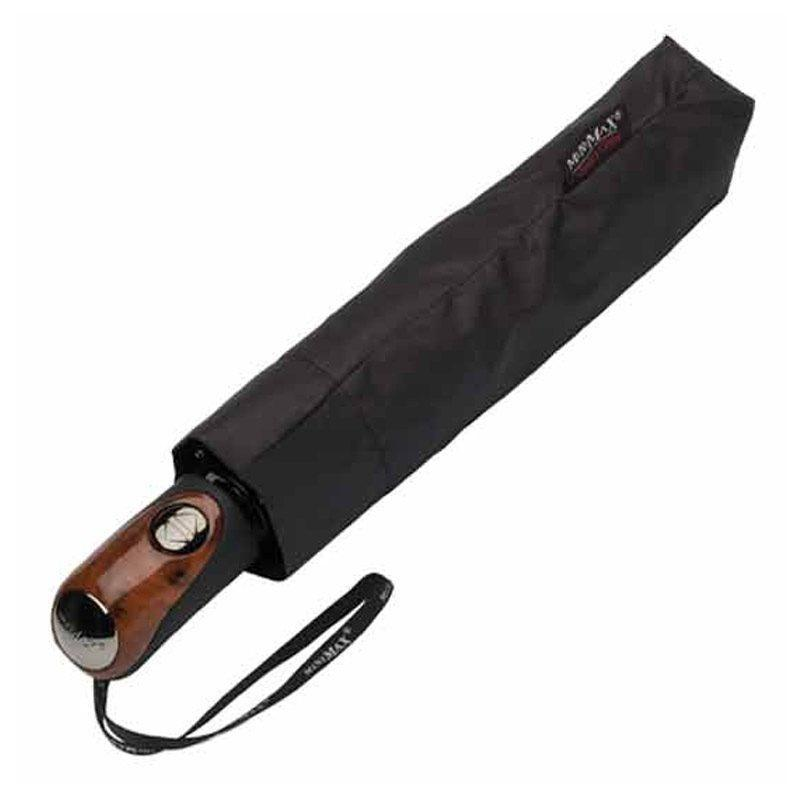Umbrella: (43, 22, 758, 766)
